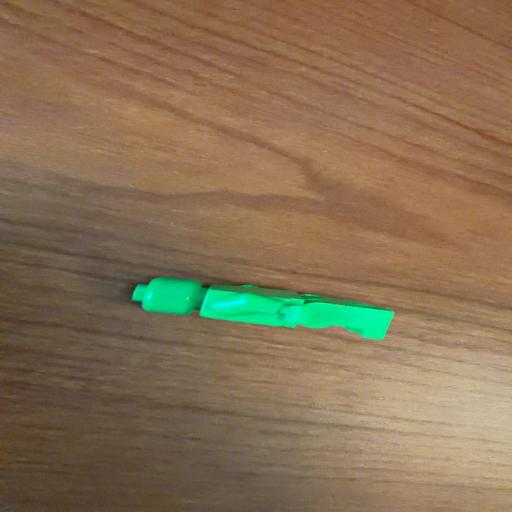UnoQ-minifig-detector: (132, 277, 394, 339)
